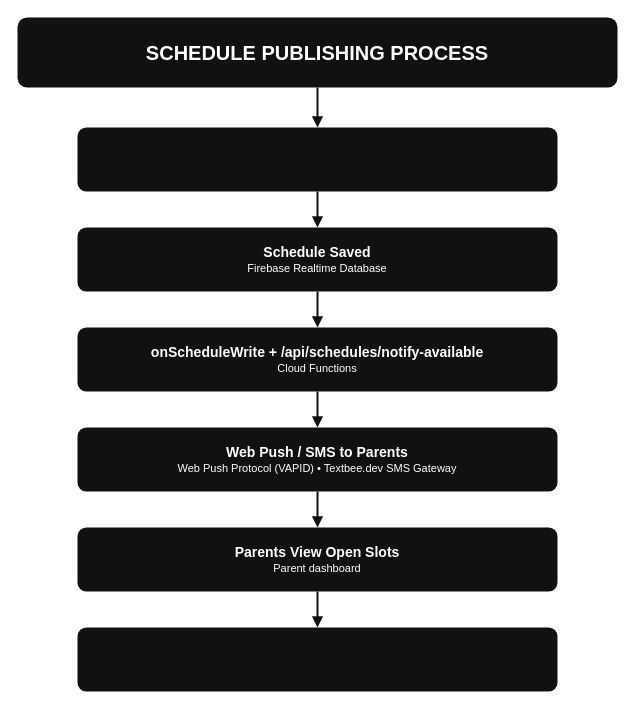
Some shapes in this 634 by 708 pixel diagram are drawn without their labels. The centre of each missing label's shape, as x and y in pixels:
"Reservation claimReservationSlot → Reservation & Queue Process" belongs at pixel 317 659.
"Secretary / Doctor Publishes Clinic Day Staff dashboard" belongs at pixel 317 159.
